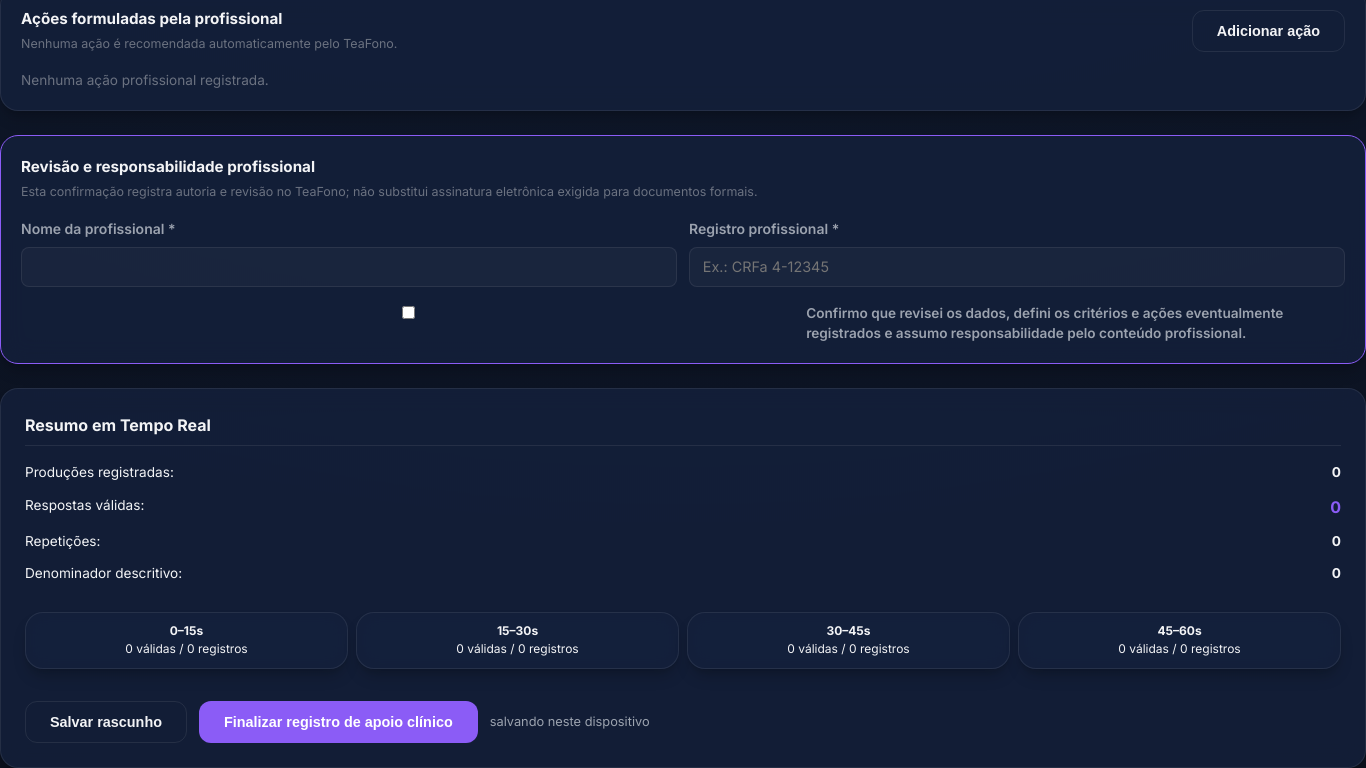
Scenario: Fluência Semântica — Evocação Lexical › bloqueia finalização sem categoria e instrução
(page scrolled)
Click the button "Finalizar registro de apoio clínico" at (338, 722), box [199,701,478,743]
(page scrolled)
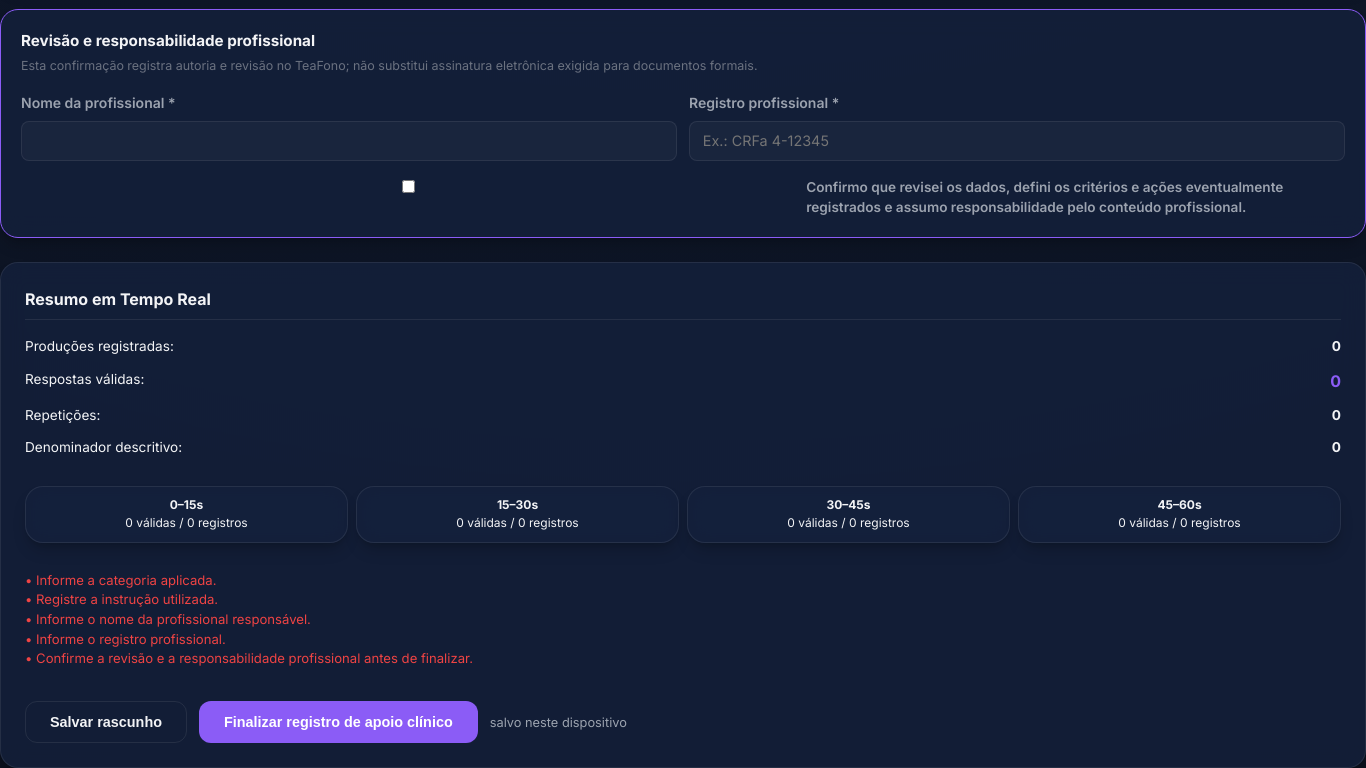
Result: the message that starts with "Informe a categoria aplicada." is shown at [36,572,217,588]
